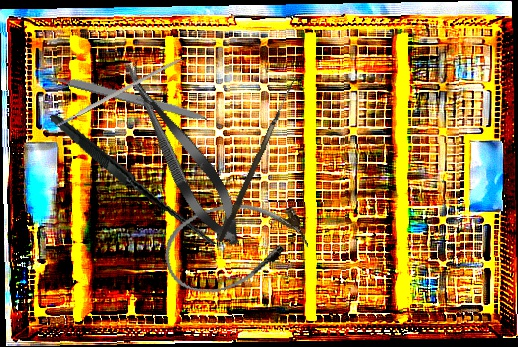Cannula: (155, 186, 314, 303)
Hook Surgical: (50, 83, 234, 273), (215, 71, 298, 244)
Micro Scissor: (110, 54, 254, 255)
Scalpel Handle: (54, 55, 184, 129), (48, 70, 209, 123)
